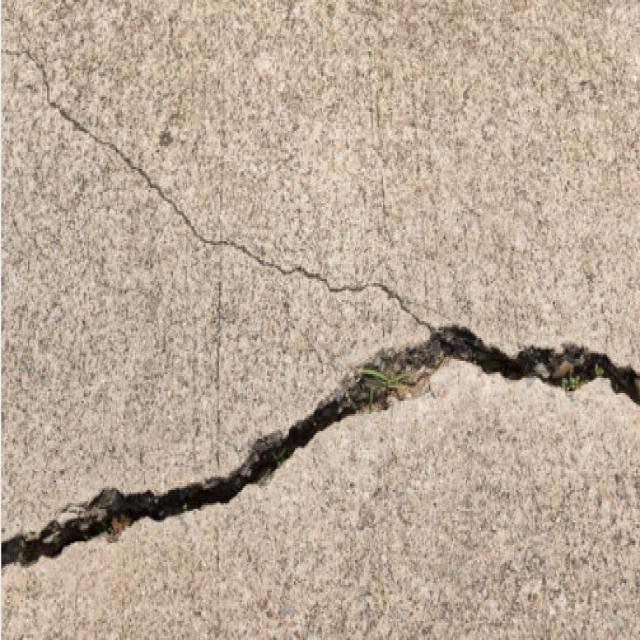branched cracks: (0, 49, 639, 565)
